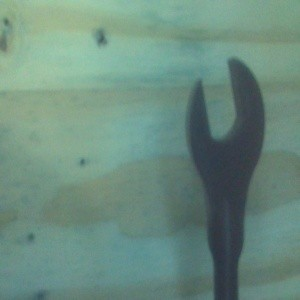spanner: (184, 57, 267, 300)
